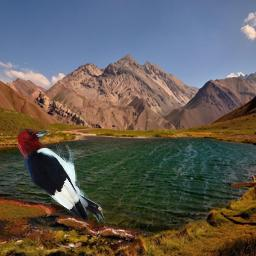Woodpecker: (18, 128, 108, 224)
